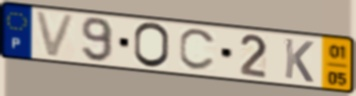2: (239, 33, 270, 81)
9: (79, 16, 115, 64)
C: (178, 27, 219, 73)
K: (283, 36, 316, 85)
O: (132, 21, 172, 70)
V: (33, 9, 79, 60)
